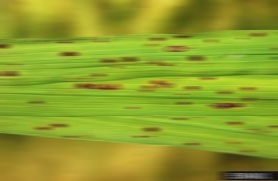Bacterial_Leaf_Blight: (223, 137, 257, 155), (58, 49, 81, 59), (168, 40, 184, 54), (36, 123, 53, 136), (177, 96, 194, 109), (247, 125, 268, 135), (102, 81, 119, 93), (249, 30, 268, 40), (214, 88, 234, 97), (153, 58, 172, 67), (207, 35, 220, 48), (122, 54, 135, 66), (215, 99, 228, 111), (192, 48, 203, 62), (142, 123, 159, 132), (175, 115, 192, 124), (3, 69, 19, 78), (1, 41, 13, 53), (142, 81, 154, 93), (187, 83, 201, 93), (243, 95, 257, 105), (77, 81, 89, 92), (160, 79, 172, 90), (52, 122, 67, 130), (103, 55, 116, 64), (176, 31, 189, 40), (152, 75, 163, 85), (241, 81, 251, 92), (29, 99, 47, 105), (97, 36, 109, 45), (92, 83, 105, 91), (126, 104, 138, 112), (260, 95, 272, 103), (133, 133, 145, 141), (228, 119, 242, 125), (65, 133, 77, 140), (187, 141, 198, 146), (155, 36, 161, 41), (61, 41, 70, 43)
